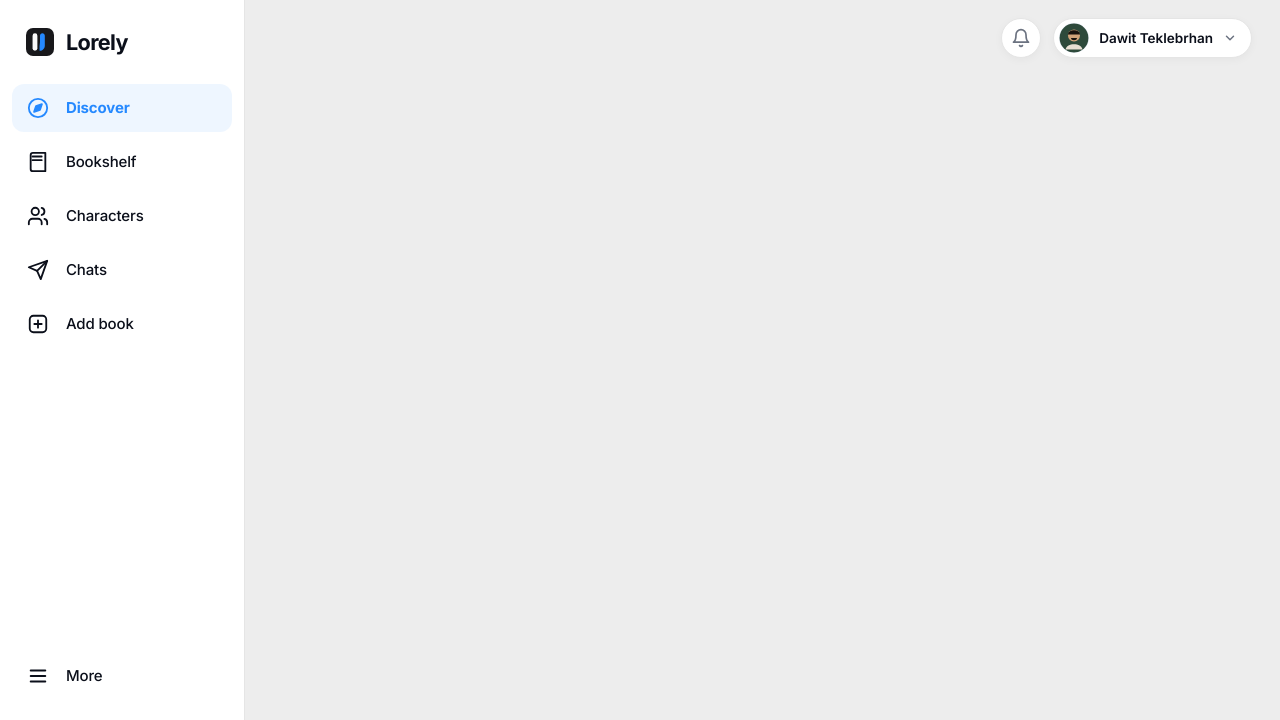
Test case: Instagram-Style Reader App Shell Navigation (Phase 1) › toggles top-right profile dropdown menu with Profile, Settings, and Log out
Later steps or results of the test are not shown.
# Click profile badge to open dropdown
Click the button with aria-label "profile" at (1153, 38), box 1053,18 -> 1252,58
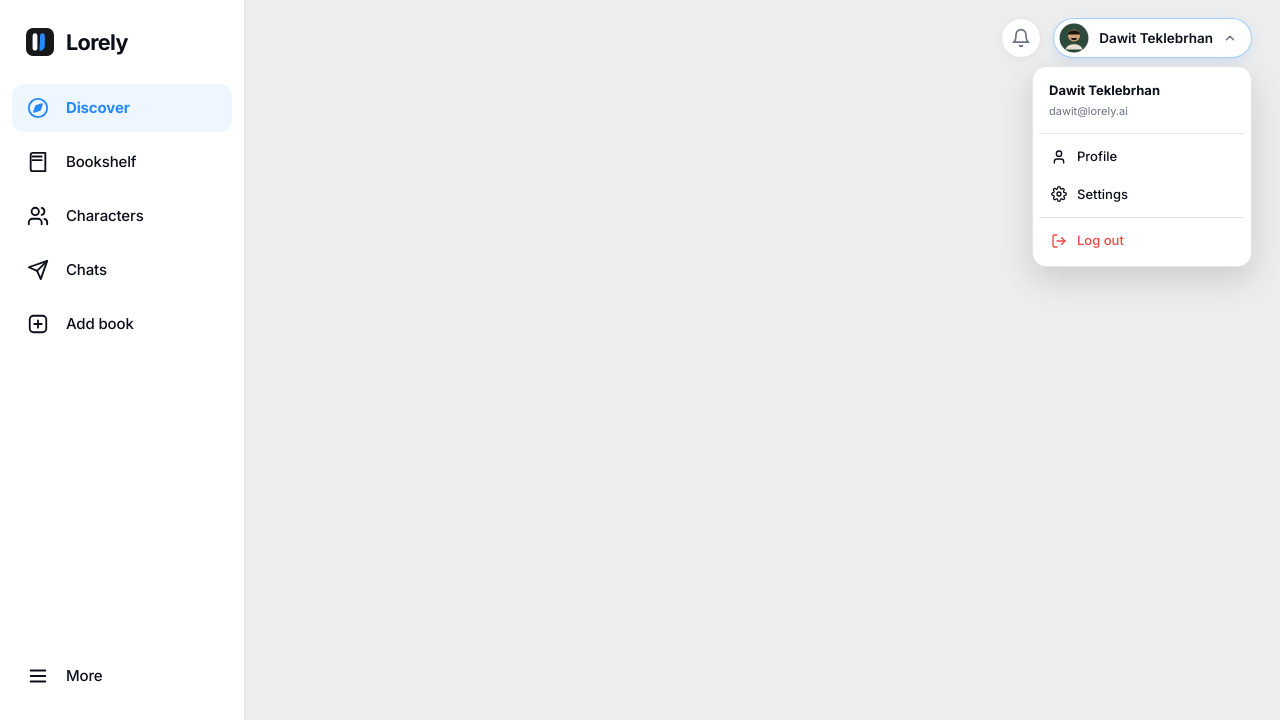
Result: the menu named "profile options" is shown at 1032,66 -> 1252,266
